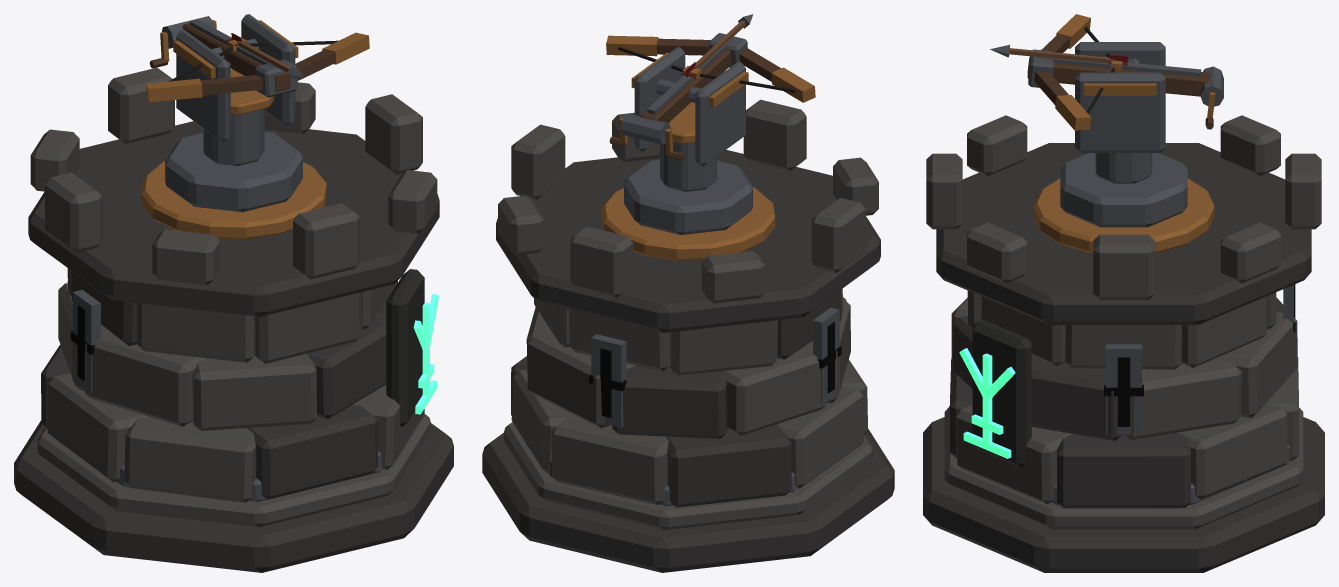
Rendered from crossbow_tower_lvl1.glb.
3 views of the same model, side by side, from view 1: azimuth 30°, elevation 25°; view 2: azimuth 150°, elevation 25°; view 3: azimuth 270°, elevation 25° (orthographic). The views are drawn at different scales.
Visible parts, largest first — view 1: Platform, Plinth, Plinth_Step, Block_0_5, Block_1_5, Block_0_6, Turret_Base, Block_1_4, Turret_Ring, Block_2_5, Block_0_4, Block_2_6 (+30 smaller); view 2: Platform, Plinth, Plinth_Step, Block_0_3, Block_0_2, Block_1_2, Turret_Base, Block_1_3, Turret_Ring, Block_0_4, Block_2_3, Block_1_1 (+30 smaller); view 3: Platform, Plinth, Block_0_0, Plinth_Step, Turret_Base, Block_1_0, Block_0_1, Cheek_R, RuneStone_0, Block_1_7, Turret_Ring, Block_0_7 (+28 smaller).
Part boxes in pixels (x1,y1,x2,y2): Platform: (28,121,439,316); Plinth: (14,420,453,572); Plinth_Step: (37,414,430,527); Block_0_5: (124,416,256,502); Block_1_5: (192,353,316,430); Block_0_6: (247,404,378,499); Turret_Base: (165,132,302,212); Block_1_4: (84,328,205,426); Turret_Ring: (141,161,326,239); Block_2_5: (137,303,255,362); Block_0_4: (47,373,148,482); Block_2_6: (255,292,361,363); Platform: (496,149,880,332); Plinth: (482,428,894,572); Plinth_Step: (504,422,872,529); Block_0_3: (666,424,791,507); Block_0_2: (551,416,668,504); Block_1_2: (612,365,727,438); Turret_Base: (624,159,752,234); Block_1_3: (721,346,826,435); Turret_Ring: (601,187,775,260); Block_0_4: (777,385,864,488); Block_2_3: (669,320,777,375); Block_1_1: (527,330,635,428); Platform: (936,143,1311,324); Plinth: (923,417,1324,572); Block_0_0: (1057,433,1191,508); Plinth_Step: (944,406,1303,529); Turret_Base: (1060,153,1187,227); Block_1_0: (1125,358,1241,439); Block_0_1: (1176,402,1287,499); Cheek_R: (1075,72,1165,152); RuneStone_0: (972,319,1031,467); Block_1_7: (1031,355,1121,440); Turret_Ring: (1033,178,1214,253); Block_0_7: (956,404,1072,504).
Bounding box in the file's own units: 2.22 × 2.72 × 2.22.
